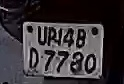0: (83, 53, 98, 79)
1: (56, 27, 63, 48)
4: (63, 27, 75, 50)
7: (42, 49, 55, 74), (56, 51, 68, 77)
8: (71, 50, 82, 74)
B: (76, 27, 87, 50)
D: (29, 46, 39, 72)
P: (47, 26, 56, 47)
U: (36, 23, 47, 46)
